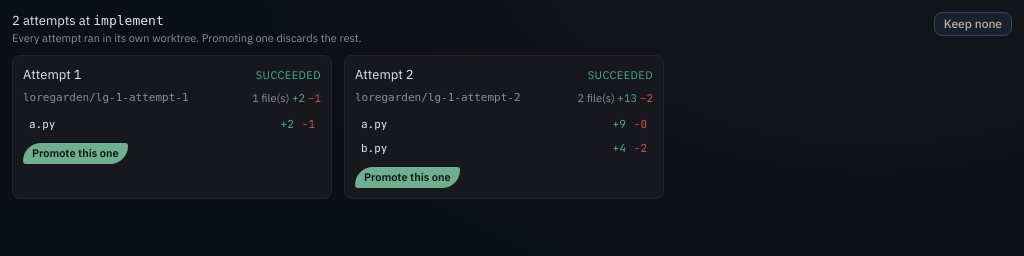
Test: a patch is fetched only when its file is opened
This screenshot has width=1024, height=256.
Step 1. Click the text "b.py" → point(374, 148), box [361,141,387,155]
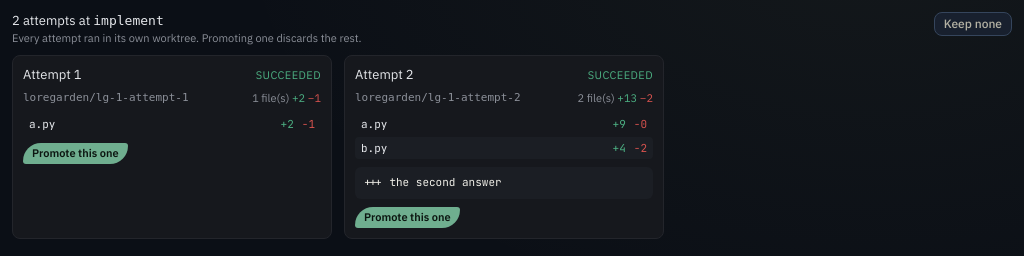
Expected: the text with test id "patch-1" shows "the second answer", [363,175,502,189]
